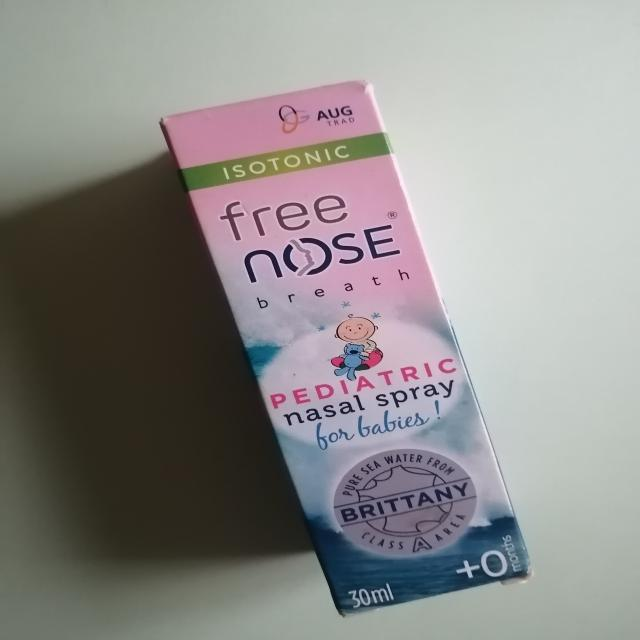Free Nose: (146, 71, 540, 614)
